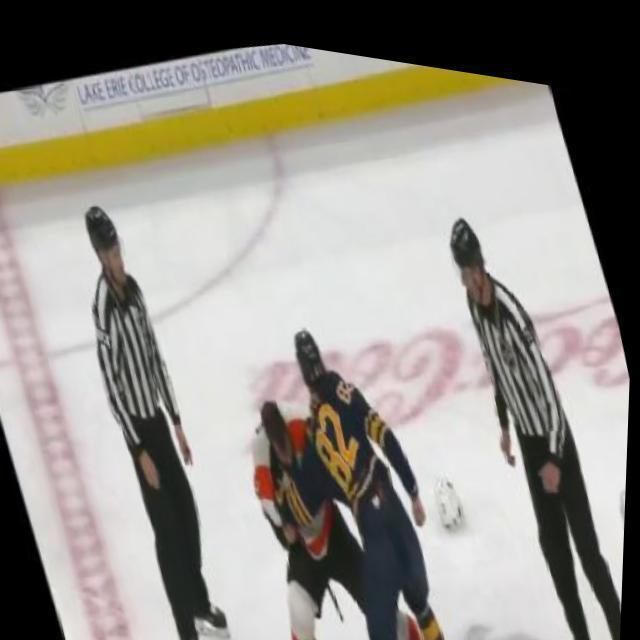fight: (190, 265, 493, 640)
